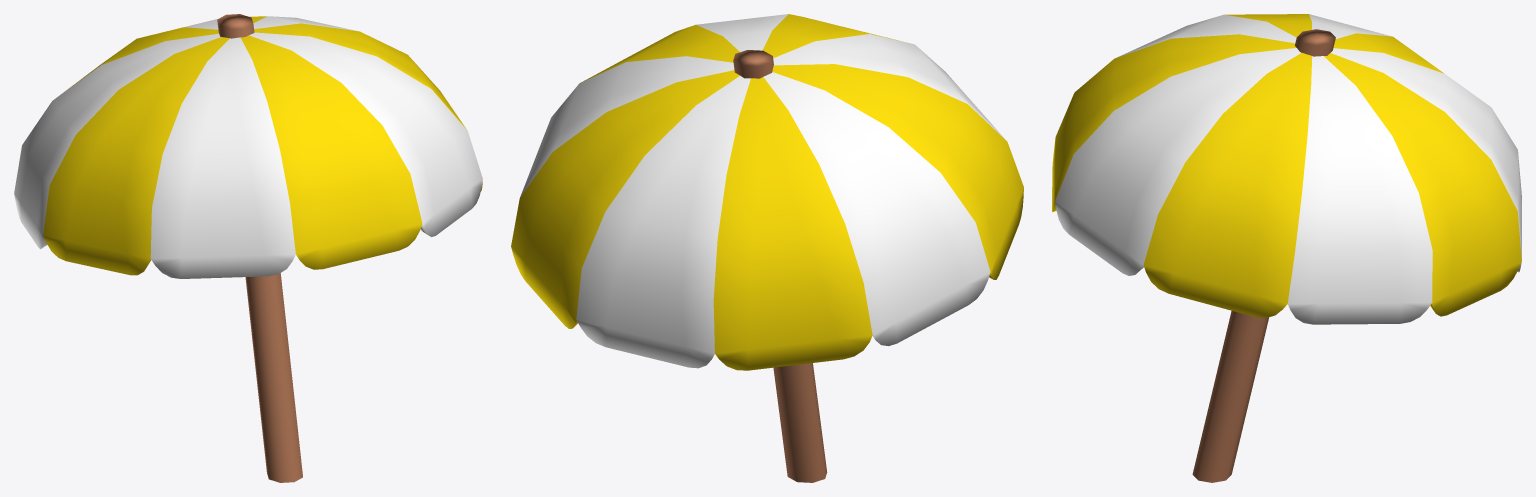
The model's file is umbrella_yellow.fbx.
3 views of the same model, side by side, from view 1: azimuth 30°, elevation 25°; view 2: azimuth 150°, elevation 25°; view 3: azimuth 270°, elevation 25° (orthographic). The views are drawn at different scales.
Parts seen in each view (by area): view 1: umbrella_yellow; view 2: umbrella_yellow; view 3: umbrella_yellow.
Boxes of the visible parts, x1,y1,x2,y2 form: umbrella_yellow: (14, 14, 482, 482); umbrella_yellow: (511, 14, 1023, 482); umbrella_yellow: (1052, 14, 1521, 482).
Size of the model in its own units: 1.84 by 1.79 by 1.75.
